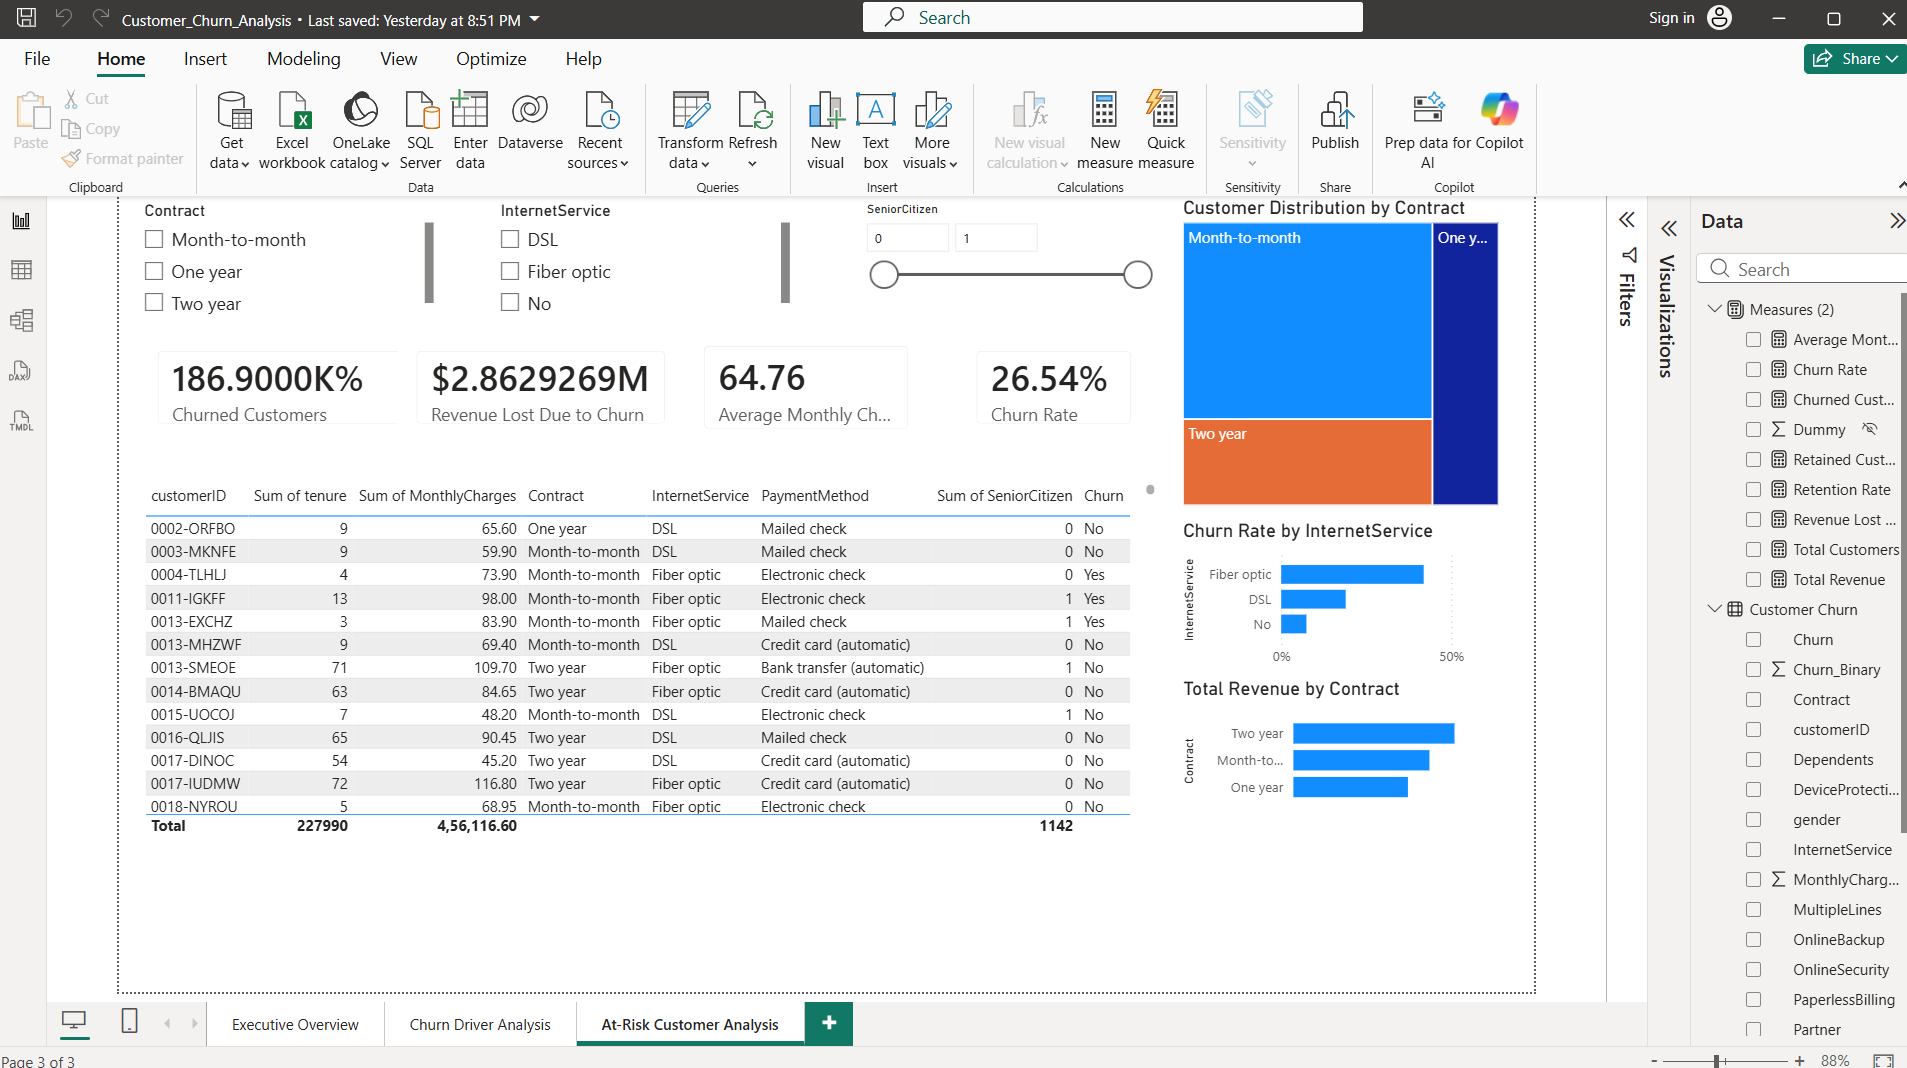

The dashboard page shown, as its layout file describes it:
{"tool":"powerbi","page":{"name":"At-Risk Customer Analysis","canvas":[1280,720],"ordinal":2},"visuals":[{"type":"slicer","fields":{"Values":["Customer Churn.Contract"]},"box":[10.5,0,279.1,114],"z":0},{"type":"slicer","fields":{"Values":["Customer Churn.InternetService"]},"box":[332.6,0,279.1,114],"z":1000},{"type":"slicer","fields":{"Values":["Customer Churn.SeniorCitizen"]},"box":[664,0,279.1,114],"z":2000},{"type":"cardVisual","fields":{"Data":["Measures (2).Churned Customers"]},"box":[18.6,123.3,279.1,100],"z":3000},{"type":"cardVisual","fields":{"Data":["Measures (2).Churn Rate"]},"box":[758.1,123.3,174.4,100],"z":4000},{"type":"cardVisual","fields":{"Data":["Measures (2).Revenue Lost Due to Churn"]},"box":[252.3,123.3,259.3,100],"z":5000},{"type":"cardVisual","fields":{"Data":["Measures (2).Average Monthly Charges"]},"box":[511.6,118.6,219.8,109.3],"z":6000},{"type":"tableEx","fields":{"Values":["Customer Churn.customerID","Sum(Customer Churn.tenure)","Sum(Customer Churn.MonthlyCharges)","Customer Churn.Contract","Customer Churn.InternetService","Customer Churn.PaymentMethod","Sum(Customer Churn.SeniorCitizen)","Customer Churn.Churn"]},"box":[18.6,255.8,924.4,329.1],"z":7000},{"type":"treemap","title":"Customer Distribution by Contract","fields":{"Values":["Measures (2).Total Customers"],"Details":["Customer Churn.Contract"]},"box":[958.1,0,295.3,284.9],"z":8000},{"type":"clusteredBarChart","fields":{"Y":["Measures (2).Churn Rate"],"Category":["Customer Churn.InternetService"]},"box":[958.1,293,295.3,141.9],"z":9000},{"type":"clusteredBarChart","fields":{"Category":["Customer Churn.Contract"],"Y":["Measures (2).Total Revenue"]},"box":[958.1,434.9,295.3,124.4],"z":10000}]}

Visuals, with their boxes on the page's 1280x720 design canvas (x1, y1, x2, y2). These are canvas units, not pixel positions in the 1907x1068 screenshot, which may show the page scaled, cropped or inside an application window:
slicer - Customer Churn.Contract: <bbox>10, 0, 290, 114</bbox>
slicer - Customer Churn.InternetService: <bbox>333, 0, 612, 114</bbox>
slicer - Customer Churn.SeniorCitizen: <bbox>664, 0, 943, 114</bbox>
cardVisual - Measures (2).Churned Customers: <bbox>19, 123, 298, 223</bbox>
cardVisual - Measures (2).Churn Rate: <bbox>758, 123, 932, 223</bbox>
cardVisual - Measures (2).Revenue Lost Due to Churn: <bbox>252, 123, 512, 223</bbox>
cardVisual - Measures (2).Average Monthly Charges: <bbox>512, 119, 731, 228</bbox>
tableEx - Customer Churn.customerID x Sum(Customer Churn.tenure): <bbox>19, 256, 943, 585</bbox>
"Customer Distribution by Contract" treemap: <bbox>958, 0, 1253, 285</bbox>
clusteredBarChart - Measures (2).Churn Rate x Customer Churn.InternetService: <bbox>958, 293, 1253, 435</bbox>
clusteredBarChart - Customer Churn.Contract x Measures (2).Total Revenue: <bbox>958, 435, 1253, 559</bbox>
